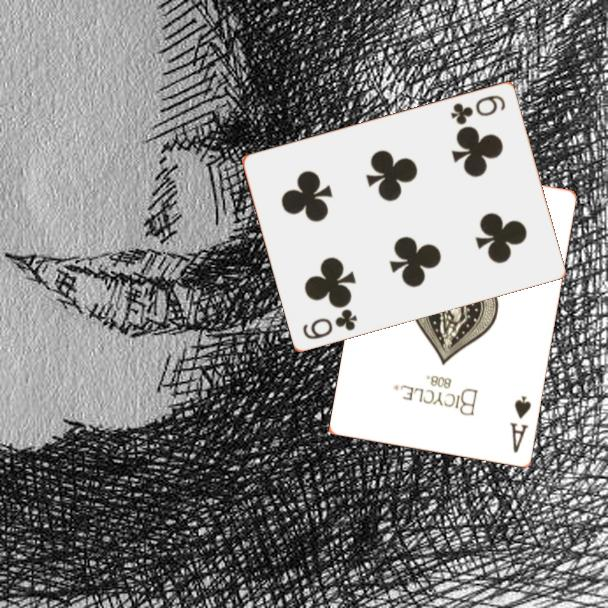c06: (299, 305, 360, 342), (447, 91, 508, 127)
s01: (507, 392, 534, 456)
